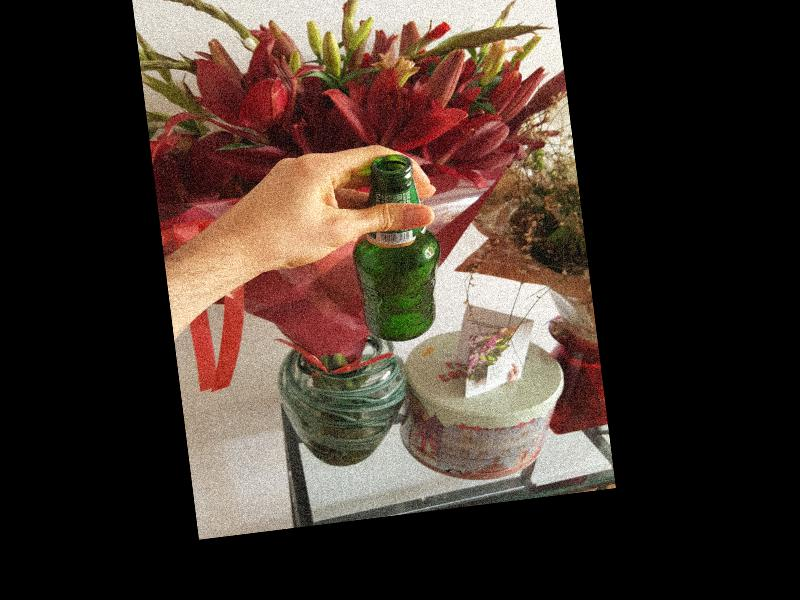Beer: (344, 151, 450, 345)
